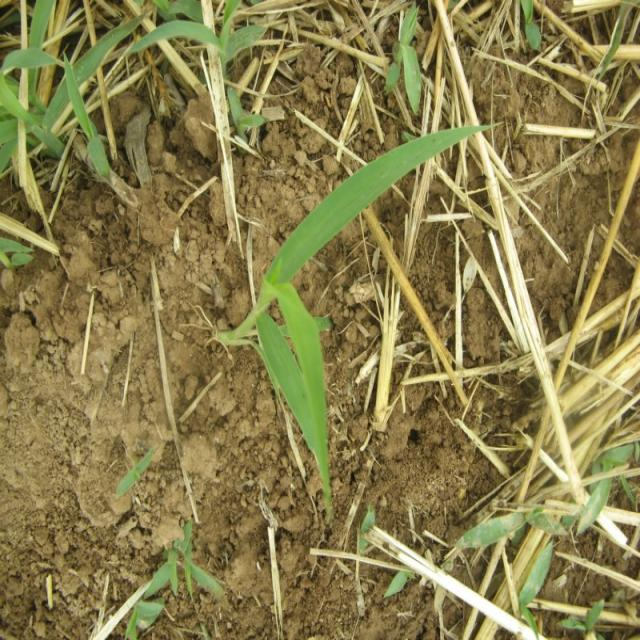bg: (224, 126, 469, 509)
